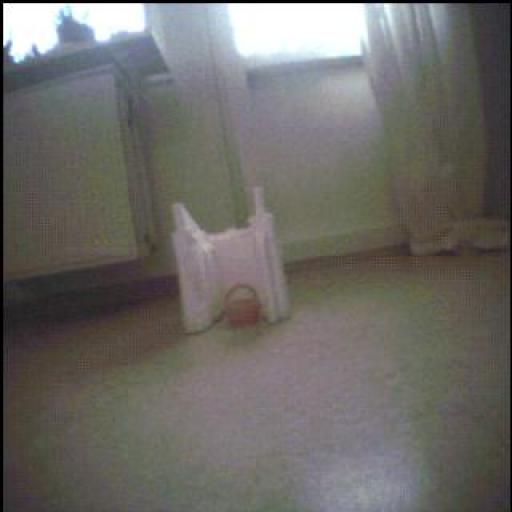Basket: (225, 285, 262, 328)
